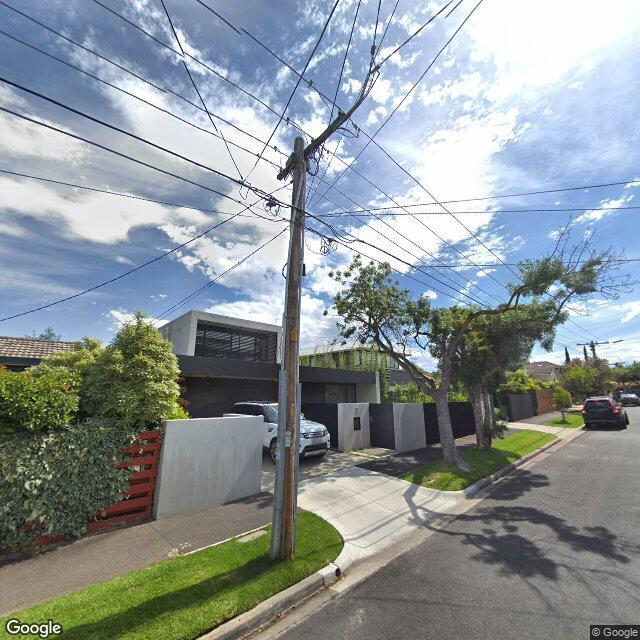crossarm: (278, 112, 346, 179), (577, 342, 609, 345)
streetlight: (609, 340, 624, 344)
timber-pole: (277, 136, 306, 558)
